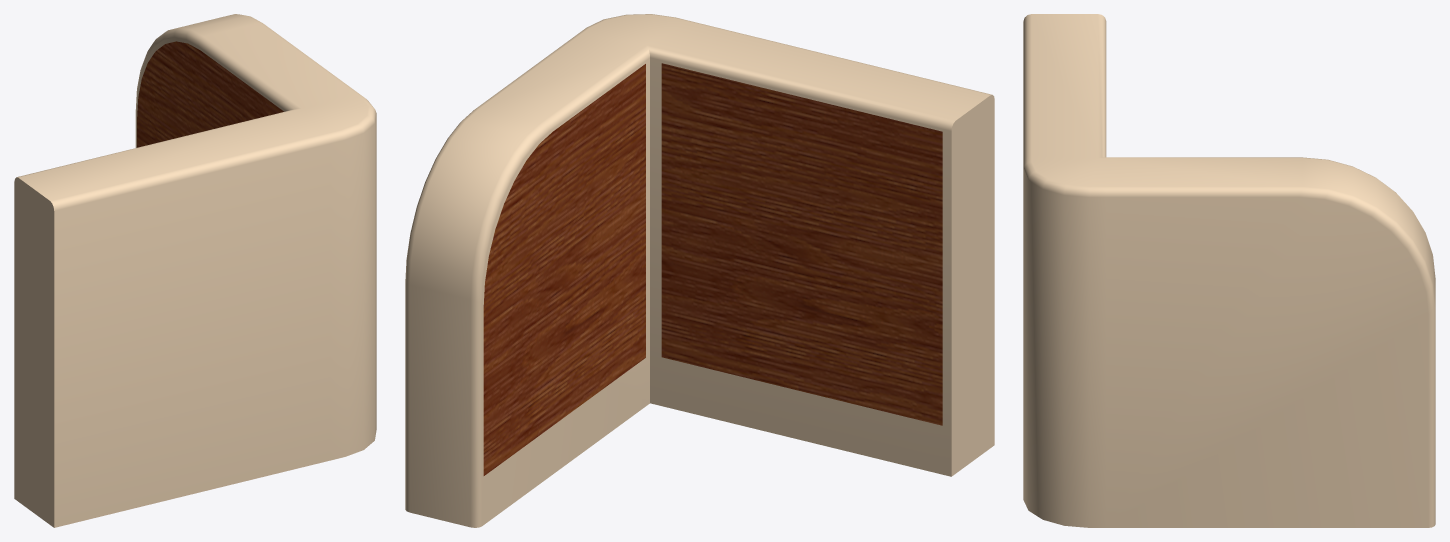
File: Wall_Corner_IL.glb
The picture shows the model from 3 angles, left to right: view 1: azimuth 30°, elevation 25°; view 2: azimuth 150°, elevation 25°; view 3: azimuth 270°, elevation 25°; orthographic projection. The views are drawn at different scales.
Visible parts, largest first — view 1: Cube.006, Plane.013; view 2: Cube.006, Plane.005, Plane.013; view 3: Cube.006.
Part boxes in pixels (x1,y1,x2,y2): Cube.006: [14, 14, 376, 527]; Plane.013: [137, 41, 283, 147]; Cube.006: [405, 14, 994, 527]; Plane.005: [661, 63, 942, 425]; Plane.013: [483, 64, 645, 475]; Cube.006: [1023, 14, 1435, 527].
Bounding box in the file's own units: 2.52 × 2.25 × 2.49.
3 materials, 3 textured.
